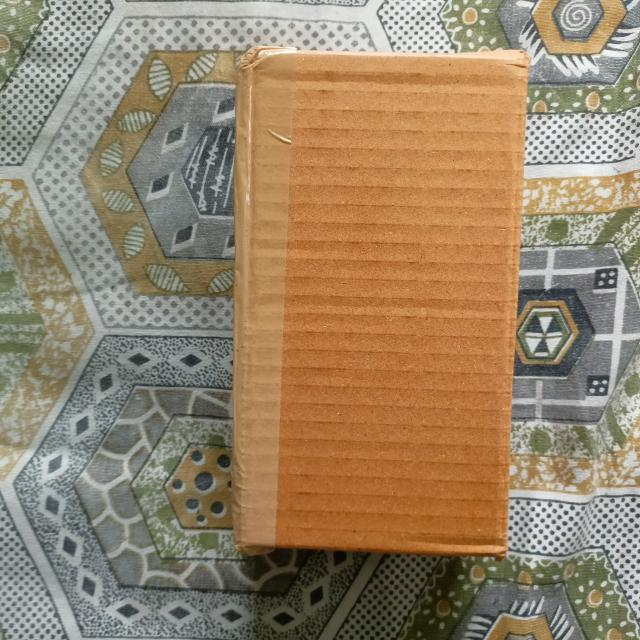box: (232, 49, 532, 562)
